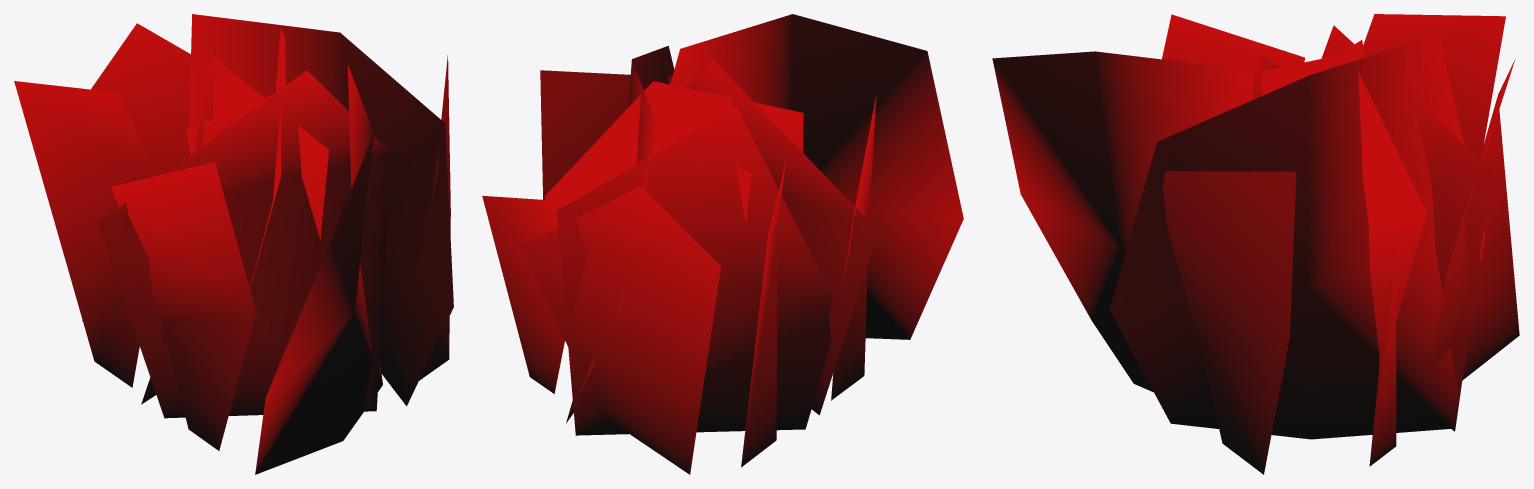
Rendered from Reeds1.fbx.
3 renders of one model, left to right at view 1: azimuth 30°, elevation 25°; view 2: azimuth 150°, elevation 25°; view 3: azimuth 270°, elevation 25°, orthographic. The views are drawn at different scales.
Parts seen in each view (by area): view 1: Reeds1; view 2: Reeds1; view 3: Reeds1.
Boxes of the visible parts, box(x1,y1,x2,y2) form: Reeds1: box(14, 14, 453, 474); Reeds1: box(482, 14, 963, 474); Reeds1: box(992, 14, 1519, 474).
Size of the model in its own units: 69.2 by 60.96 by 80.3.
